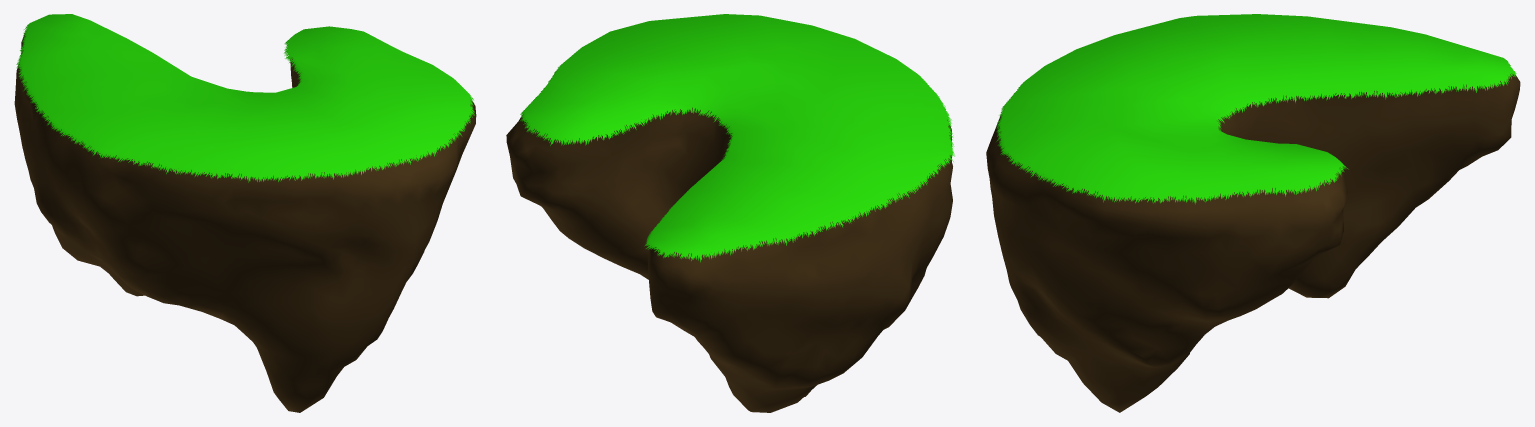
The model's file is IslandGrassMedium3.FBX.
The picture shows the model from 3 angles, left to right: view 1: azimuth 30°, elevation 25°; view 2: azimuth 150°, elevation 25°; view 3: azimuth 270°, elevation 25°; orthographic projection. The views are drawn at different scales.
Visible parts, largest first — view 1: Plane011; view 2: Plane011; view 3: Plane011.
Boxes of the visible parts, x1=… form: Plane011: x1=14, y1=14, x2=476, y2=412; Plane011: x1=506, y1=14, x2=954, y2=412; Plane011: x1=986, y1=14, x2=1520, y2=412.
Size of the model in its own units: 1558 by 1148 by 1844.
